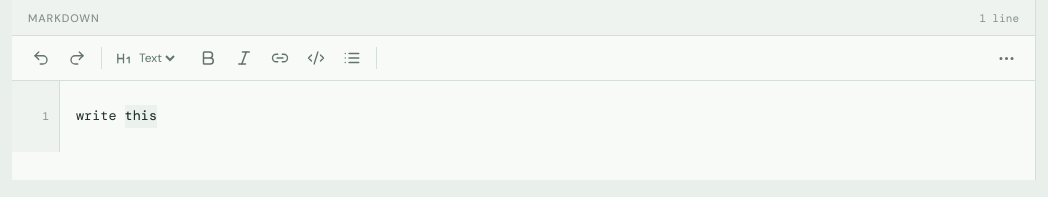
Scenario: EditorPane › wraps selected source text in bold Markdown from the formatting toolbar
Click the button named "Bold" at [208, 58], box [191, 41, 225, 75]
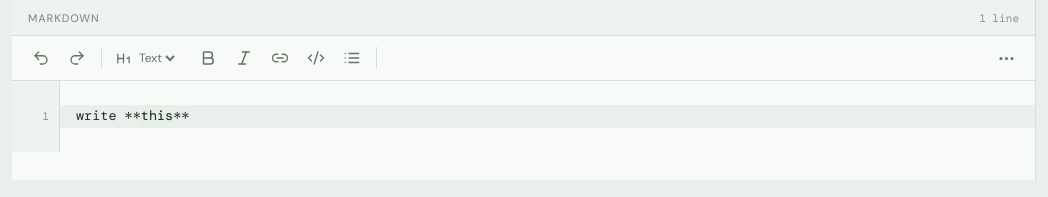
Check: the text box holds "write **this**", box [12, 81, 1035, 175]
